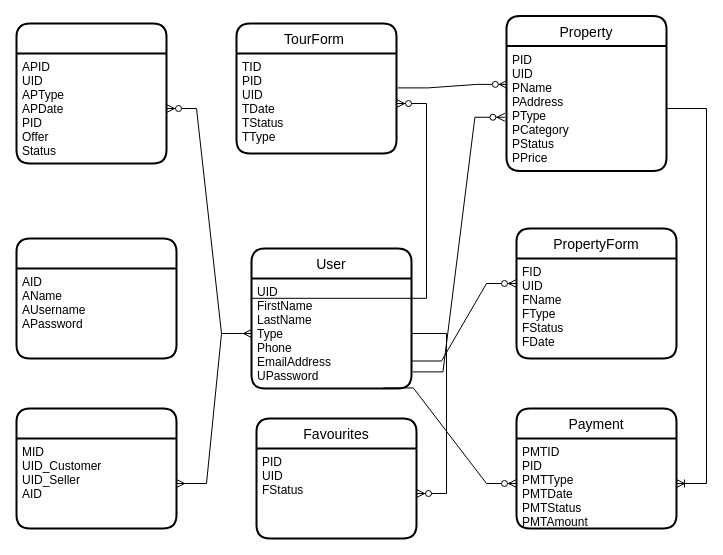
Image size: 723x555. Some labels were removed from this diagram. The box of each missing label's shape, as (x1, y1, x2, y2) in pixels:
Admin: (15, 237, 177, 359)
Messenger: (15, 407, 177, 529)
UserApplicationForm: (15, 22, 167, 164)
